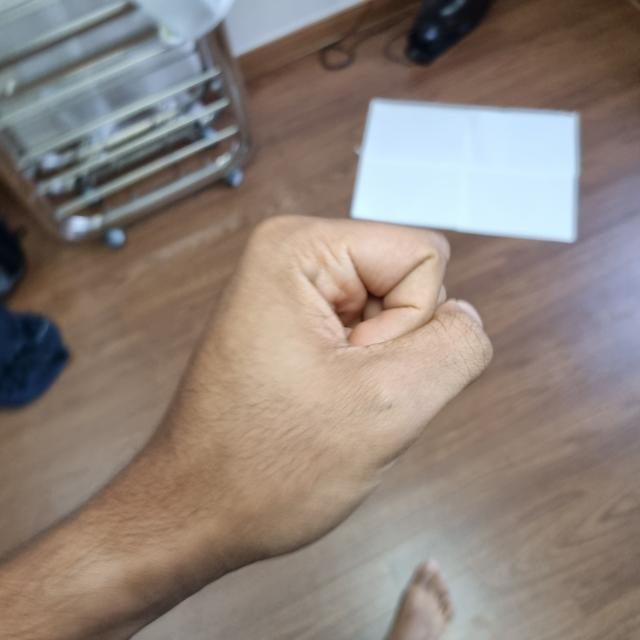Rock: (154, 220, 485, 555)
